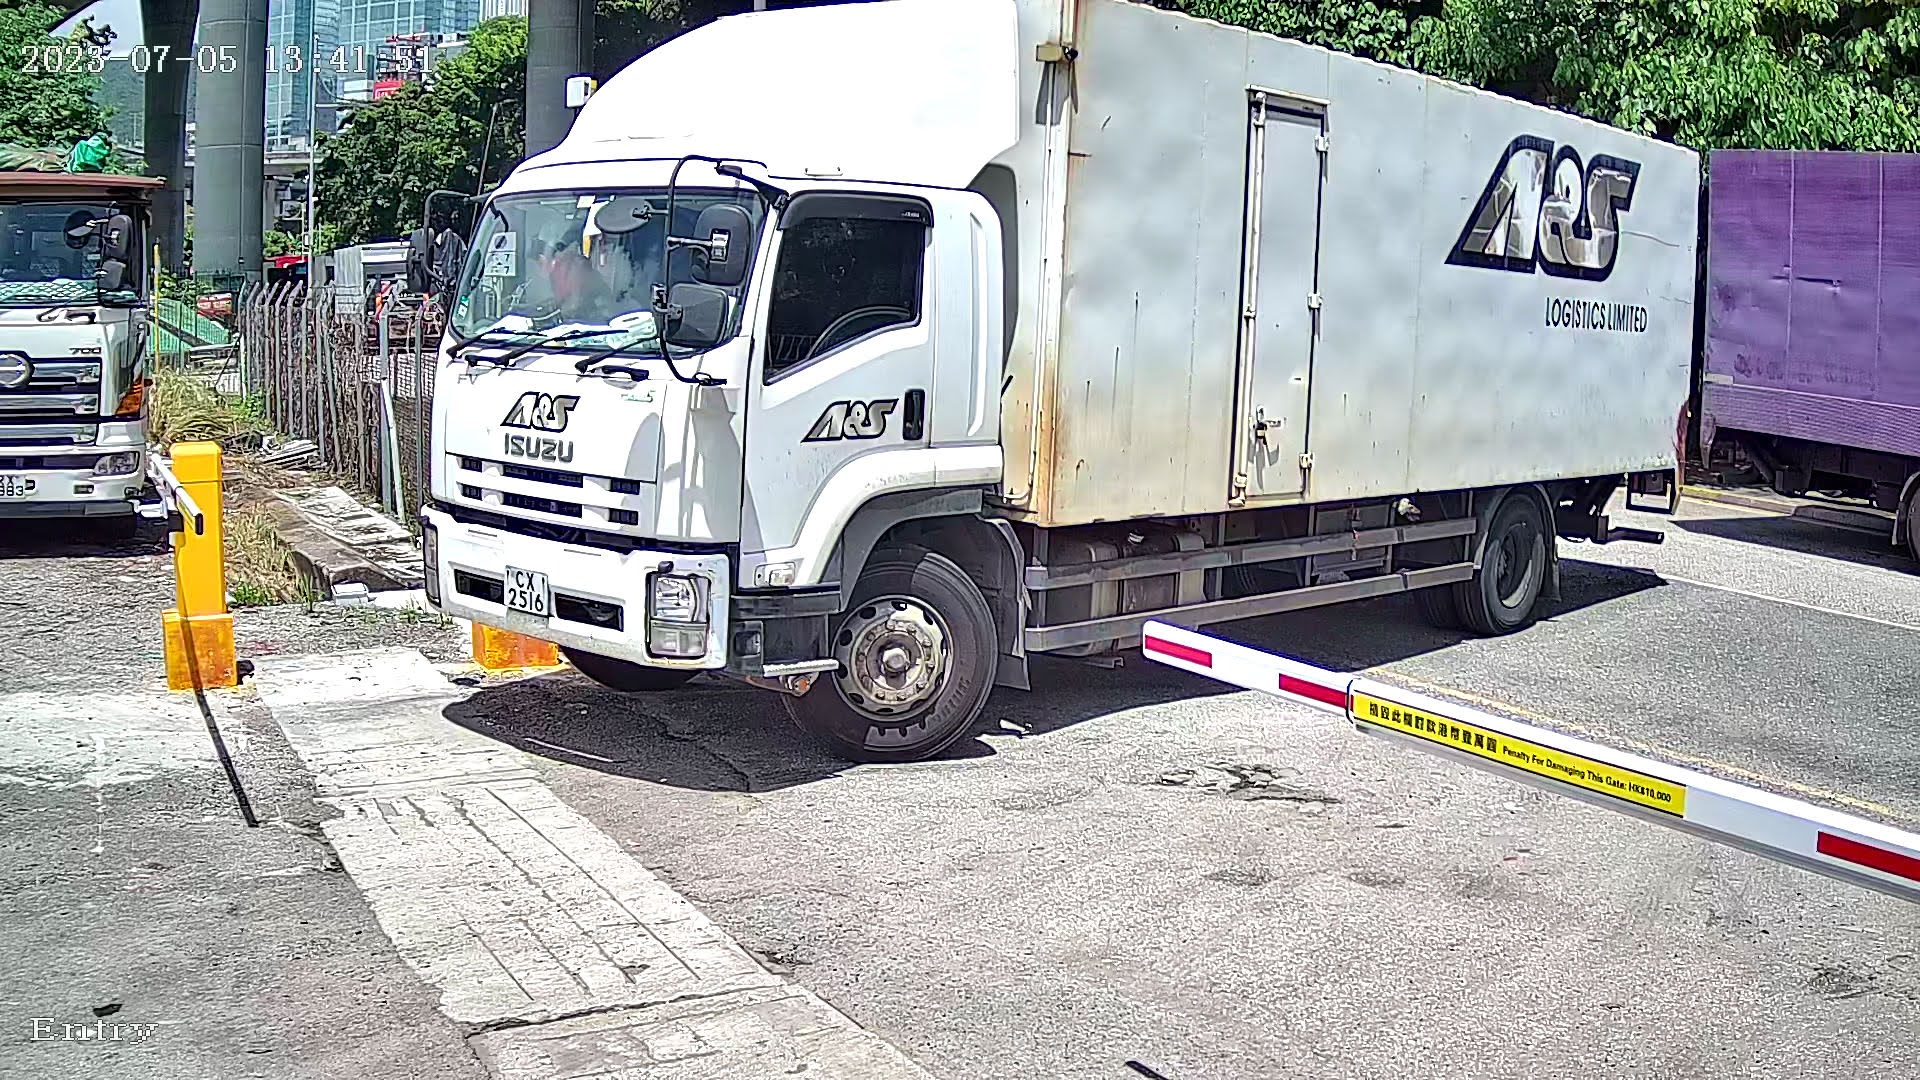truck: (396, 3, 1779, 802)
